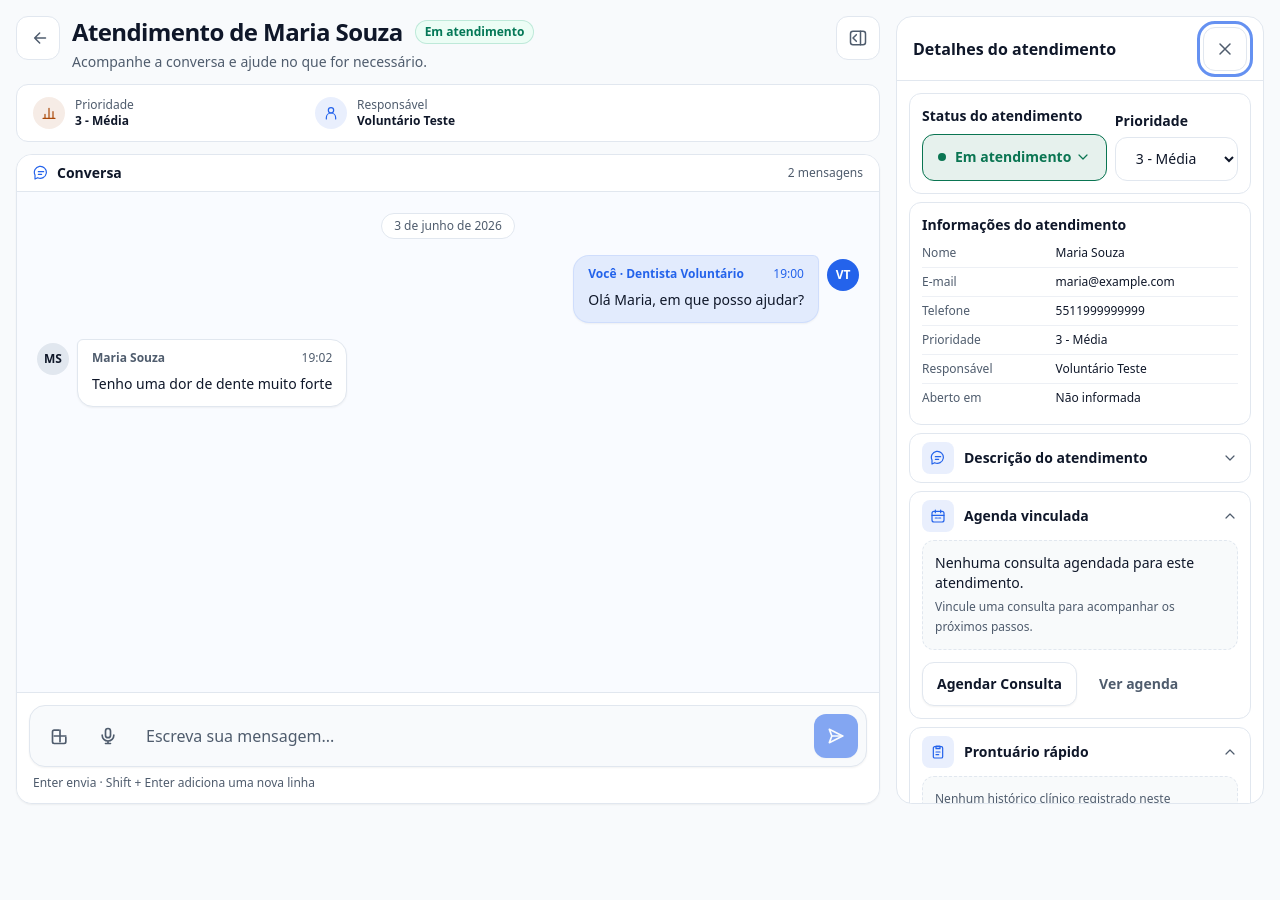
Test: DetalheAtendimento - Deduplicação de Mensagens › fecha e reabre o painel preservando rascunho, mensagens e conexão
Type "Rascunho preservado" into the text box named "Nova mensagem". click: {"x": 472, "y": 736}
box: [134,714,810,758]
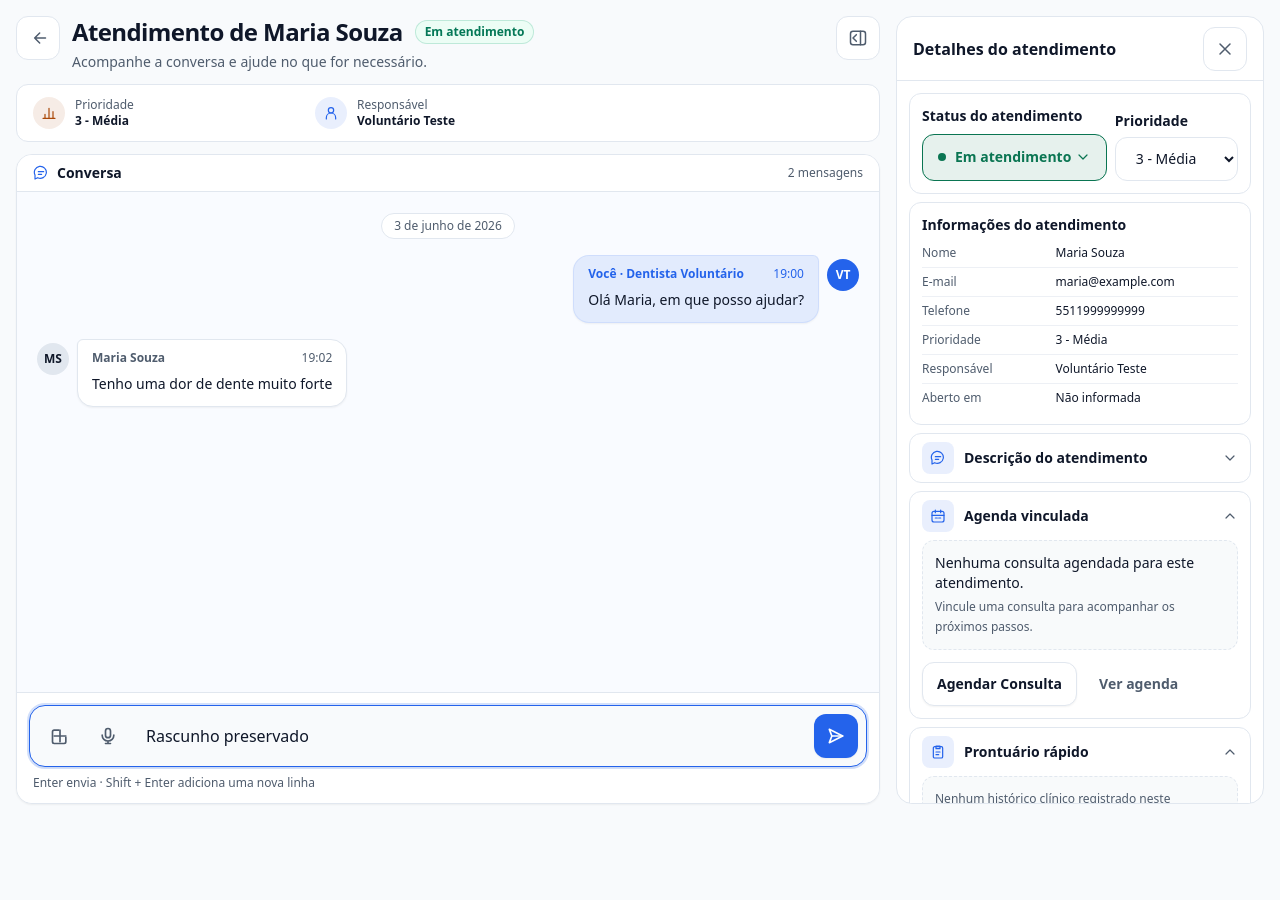
Click the button named "Fechar detalhes do atendimento". click: {"x": 1225, "y": 48}
box: [1203,26,1247,70]
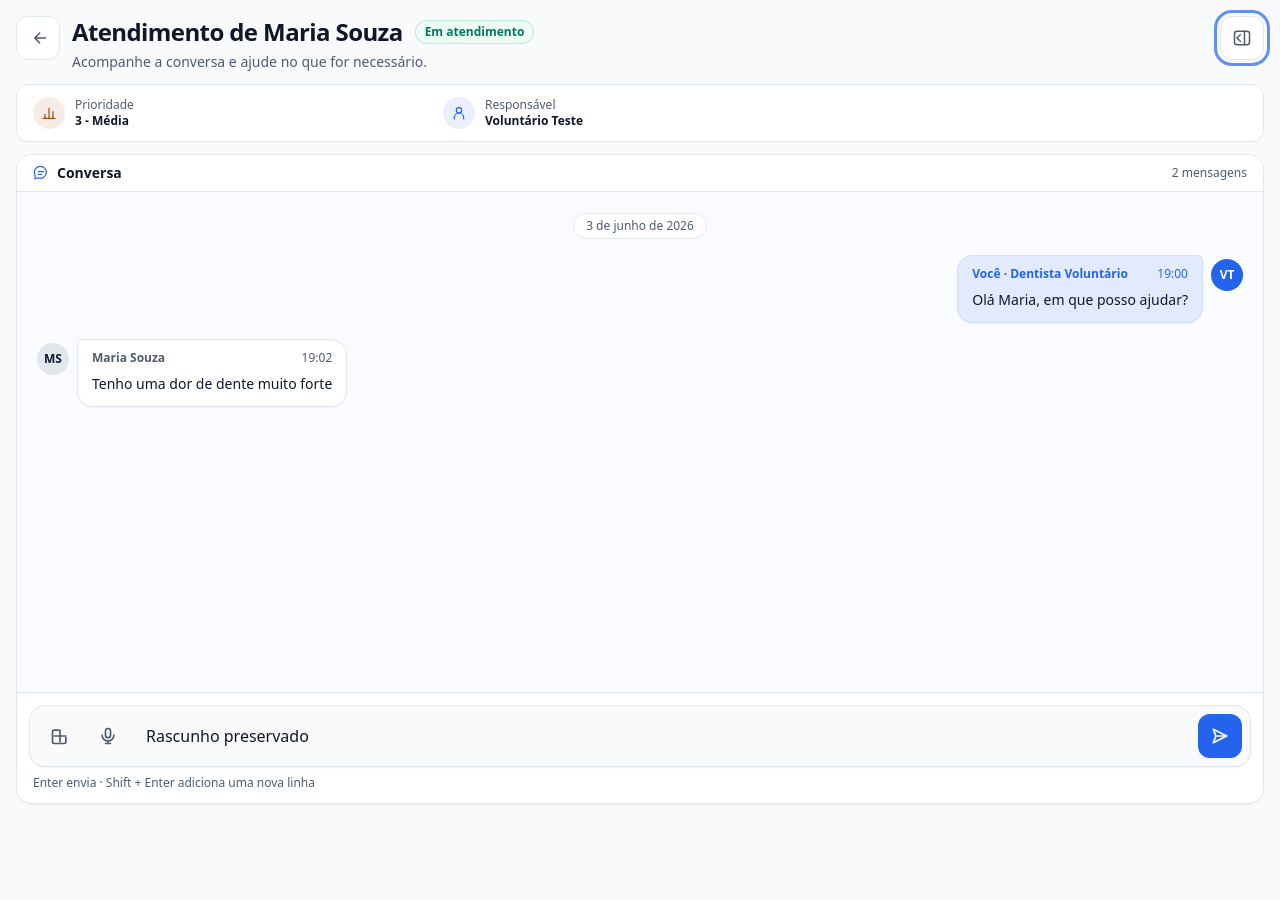
Check: the button named "Abrir detalhes do atendimento" is collapsed
Check: the dialog is gone
Click the button named "Abrir detalhes do atendimento". click: {"x": 1242, "y": 38}
box: [1220,16,1264,60]
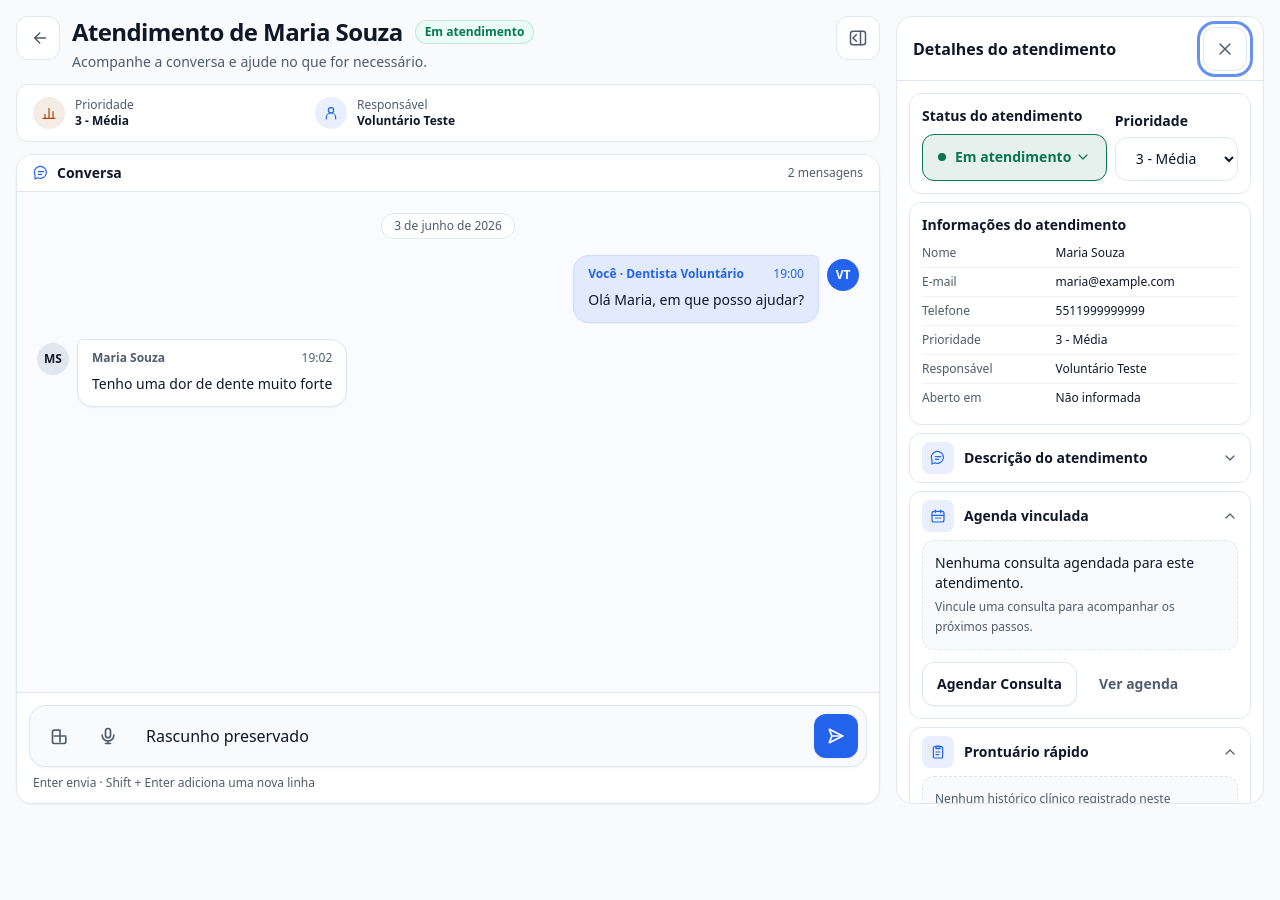
Check: the text "Tenho uma dor de dente muito forte" is shown once, box [92,372,332,396]
Check: the dialog is shown, box [896,16,1264,804]
